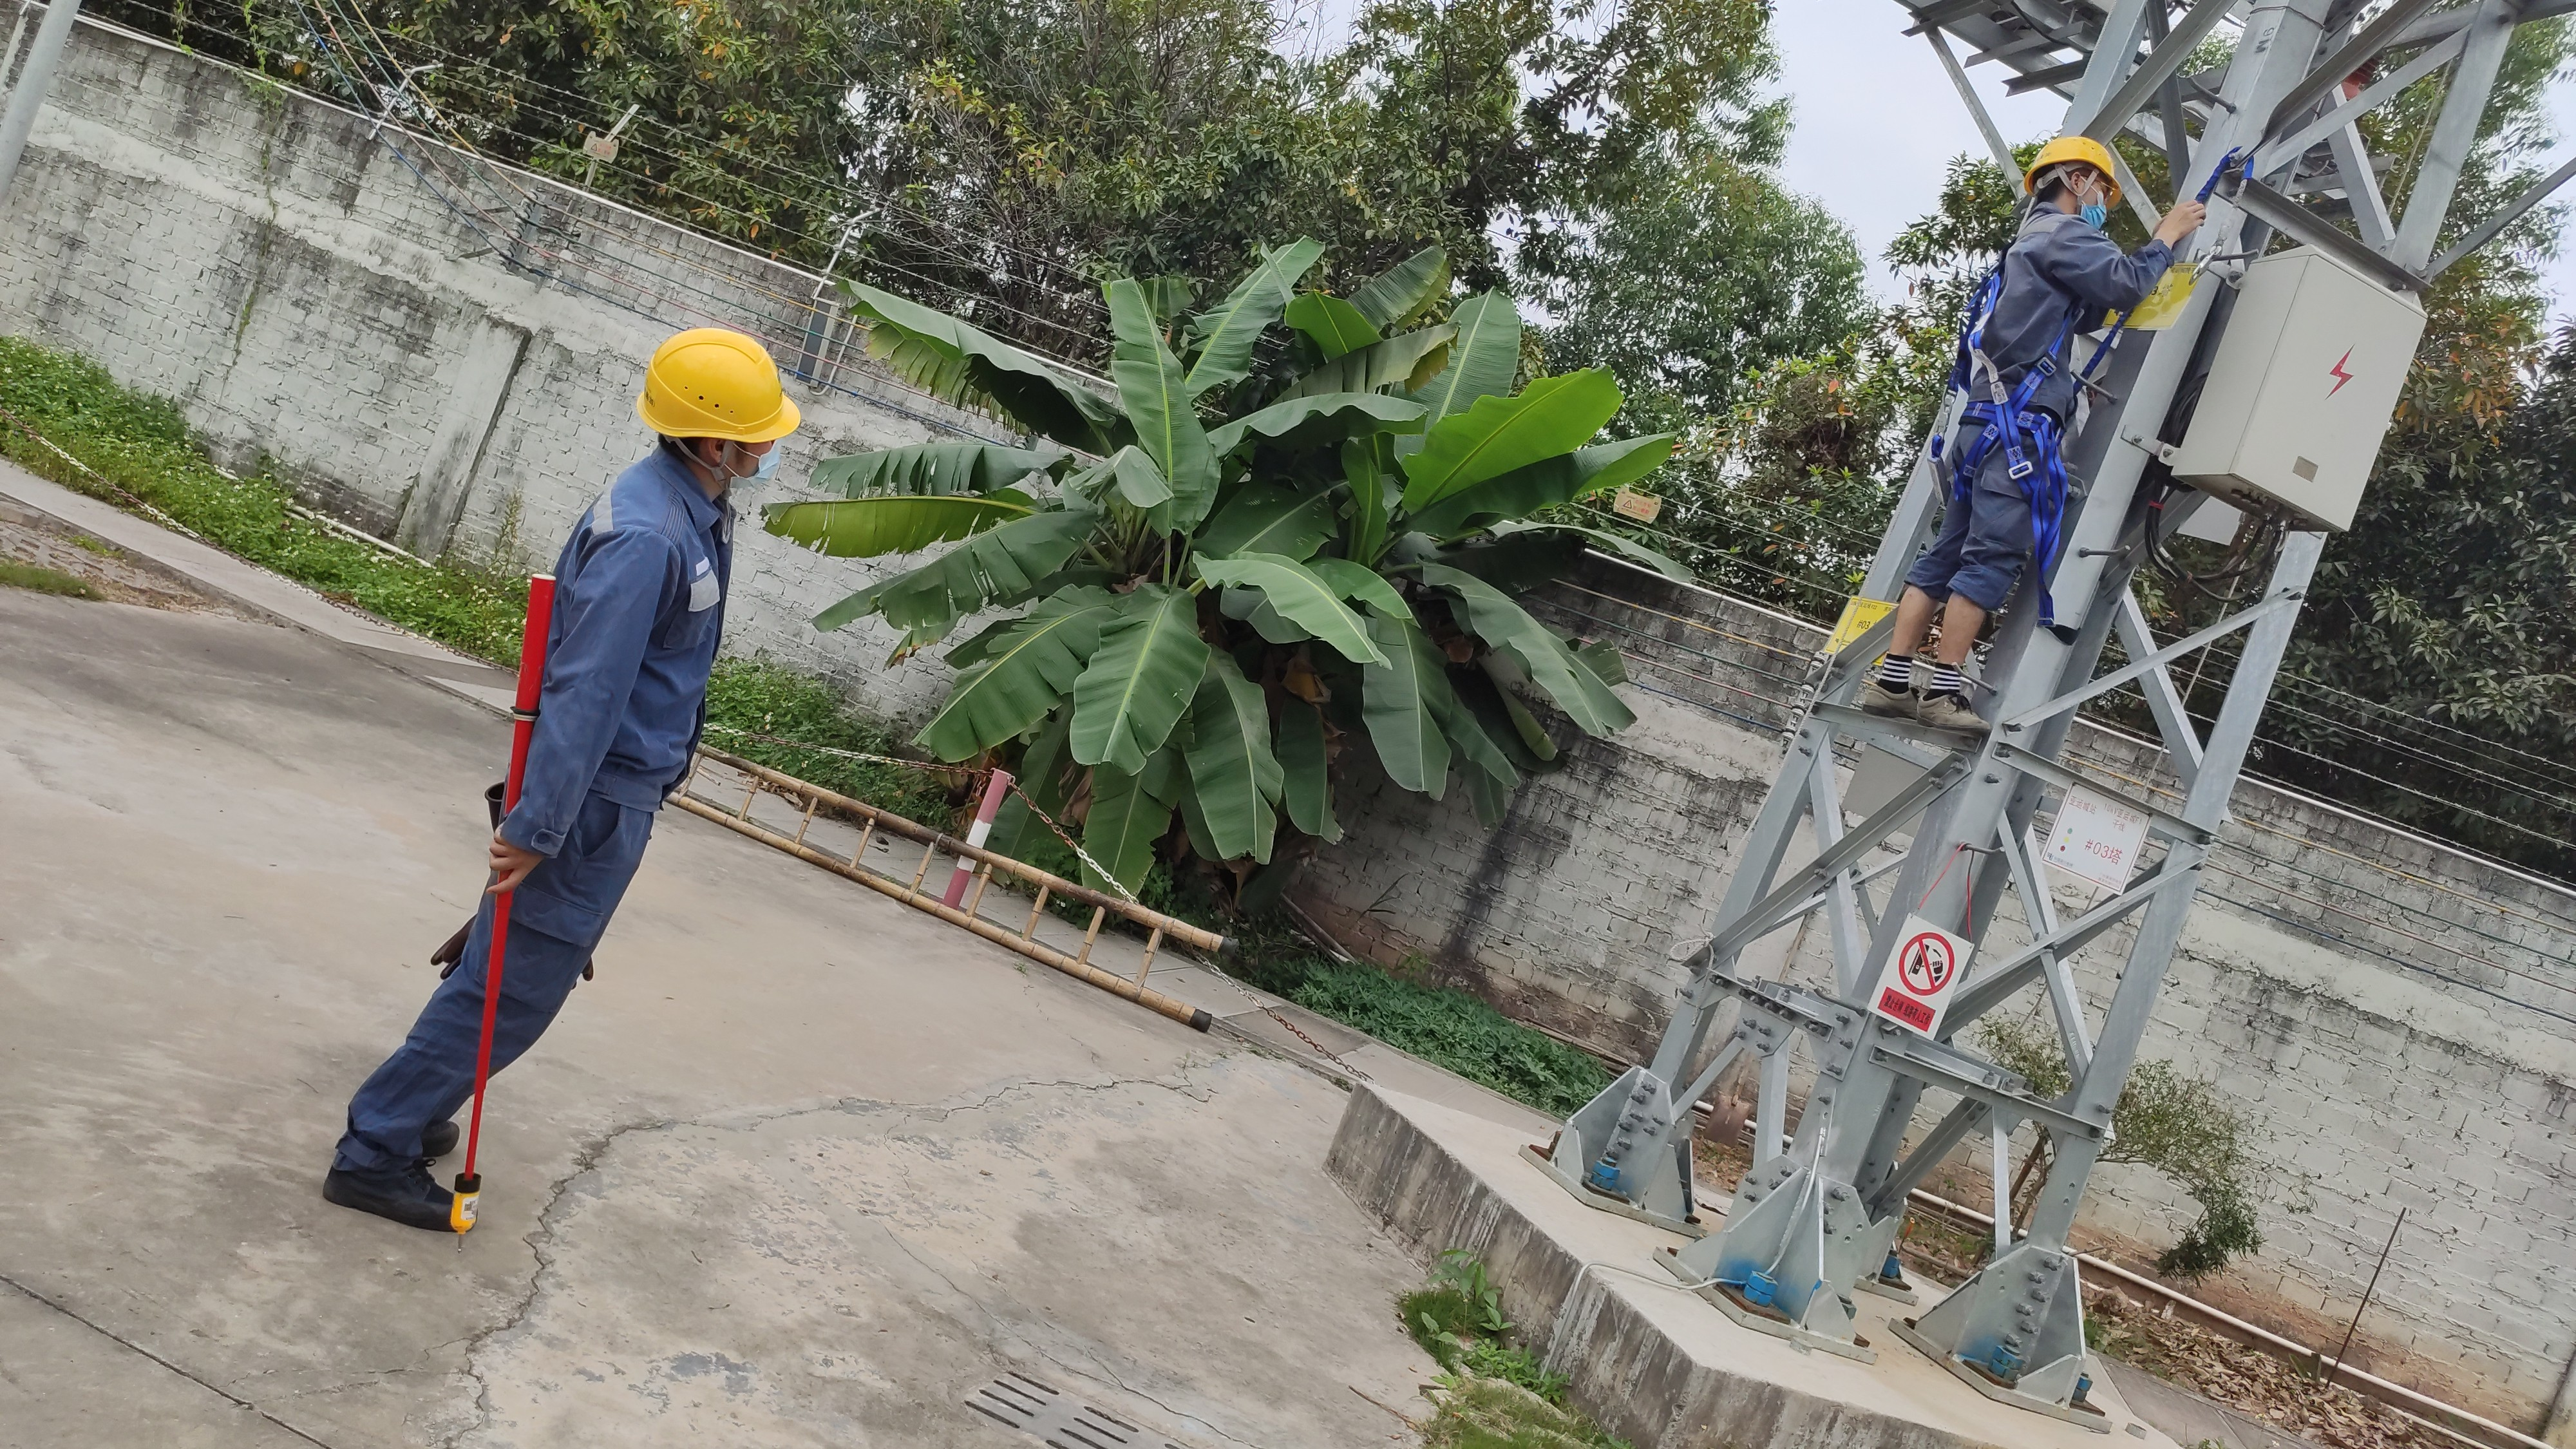downsuit: (336, 770, 640, 1150), (1921, 398, 2081, 621)
upsuit: (540, 448, 736, 876), (1967, 203, 2176, 428)
wrongbottom: (1875, 568, 1997, 697)
